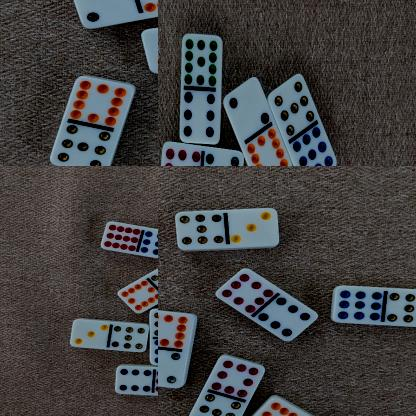pip-10: (70, 76, 137, 125), (224, 76, 271, 136), (246, 127, 289, 166), (158, 310, 197, 348), (117, 279, 158, 312), (248, 394, 306, 416)
pip-11: (180, 33, 224, 89)
pip-12: (101, 221, 141, 252)
pip-2: (71, 0, 134, 28)
pip-3: (227, 206, 281, 248), (71, 317, 110, 349), (142, 22, 158, 73)
pip-4: (158, 347, 187, 387)
pip-5: (203, 149, 245, 166)
pip-6: (258, 296, 318, 341), (180, 86, 222, 144), (114, 365, 154, 395)
pip-7: (273, 73, 315, 136), (50, 123, 111, 166), (175, 209, 227, 251), (384, 287, 416, 327), (188, 393, 243, 416), (111, 322, 149, 352), (149, 307, 158, 337)
pip-8: (216, 268, 274, 313), (212, 356, 266, 397), (159, 140, 201, 166)
pip-9: (333, 285, 385, 323), (292, 124, 337, 166), (140, 229, 158, 259), (149, 337, 158, 365)
